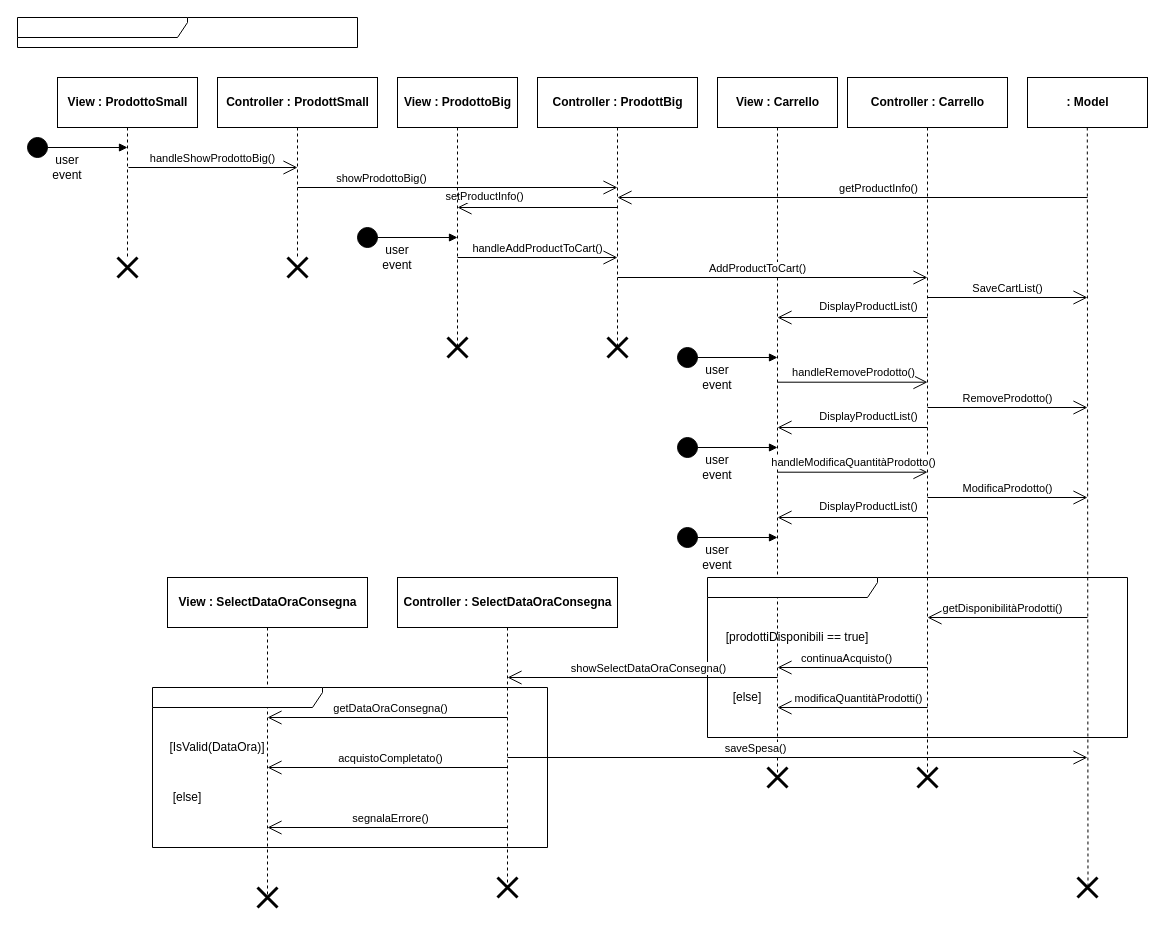
This 1165x926 diagram has some shape labels left out. Here are the shapes that lost their labels. From the top down, the box of each, then its label:
(16, 16, 358, 48): Interaction Catalogo
(706, 576, 1128, 738): Alt checkDisponibilitàProdotti
(152, 686, 548, 848): Alt checkDataOra
